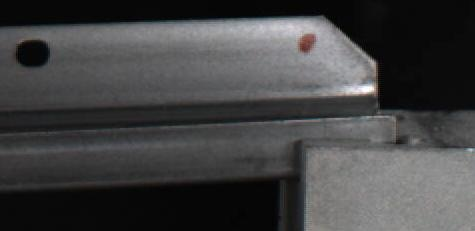cut: (260, 15, 395, 178)
holes: (13, 37, 53, 68)
